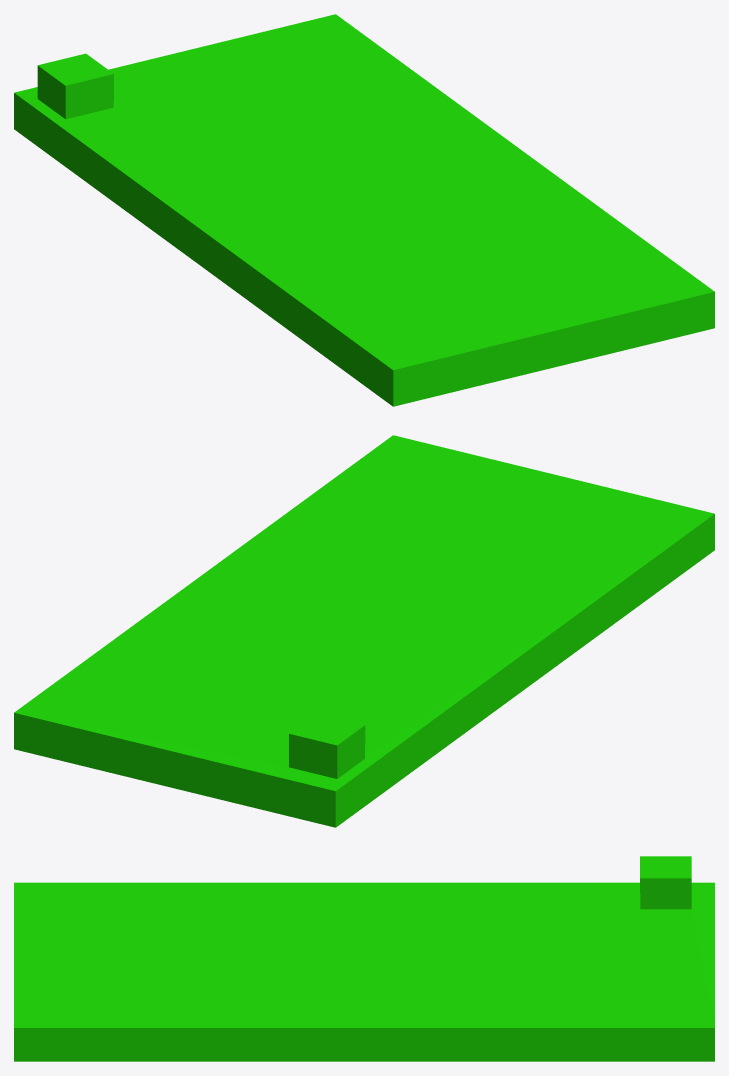
File: SM_Shelf_03_Door_02_Collider.fbx
3 views of the same model, one above another, from view 1: azimuth 30°, elevation 25°; view 2: azimuth 150°, elevation 25°; view 3: azimuth 270°, elevation 25° (orthographic). The views are drawn at different scales.
Parts seen in each view (by area): view 1: SM_Shelf_03_Door_02_Collider; view 2: SM_Shelf_03_Door_02_Collider; view 3: SM_Shelf_03_Door_02_Collider.
Boxes of the visible parts, left/top/right/bottom form: SM_Shelf_03_Door_02_Collider: left=14, top=14, right=714, bottom=406; SM_Shelf_03_Door_02_Collider: left=14, top=435, right=714, bottom=827; SM_Shelf_03_Door_02_Collider: left=14, top=856, right=714, bottom=1061.
Size of the model in its own units: 41.29 by 8.63 by 84.27.
